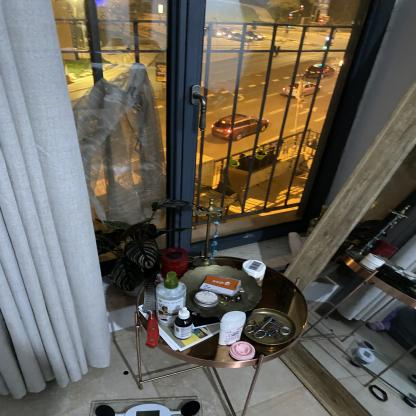Knife: (143, 275, 160, 349)
